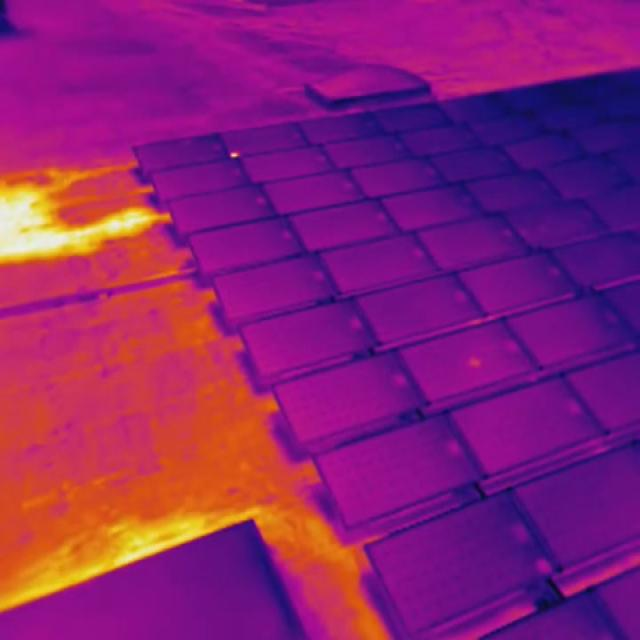Orange-Spots: (468, 354, 481, 366), (228, 150, 240, 158)
